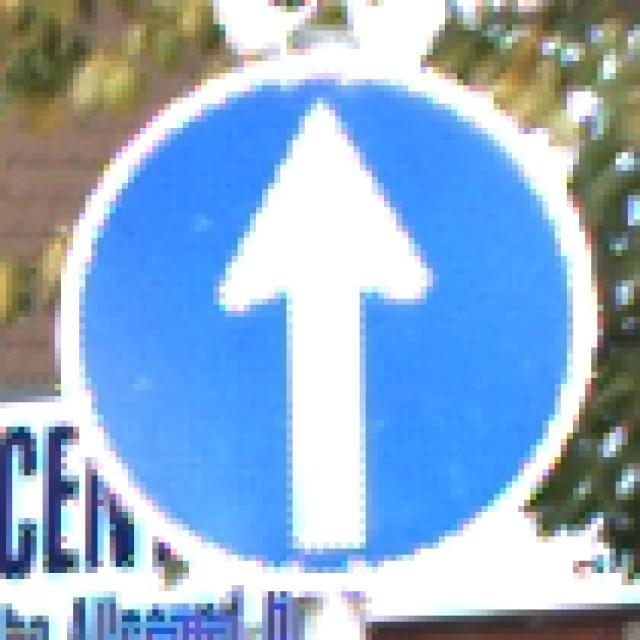compulsary ahead: (46, 57, 600, 586)
